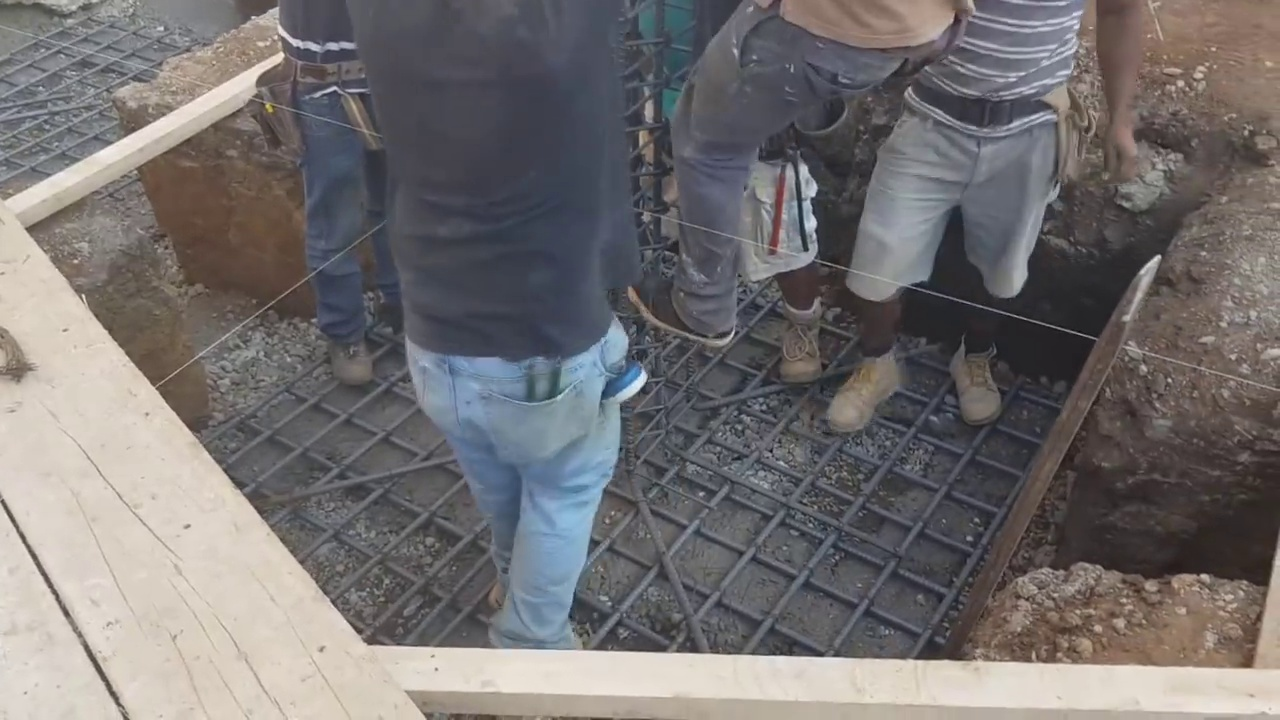person: (359, 2, 662, 688), (776, 0, 1107, 437), (621, 3, 968, 356), (269, 0, 397, 401)
